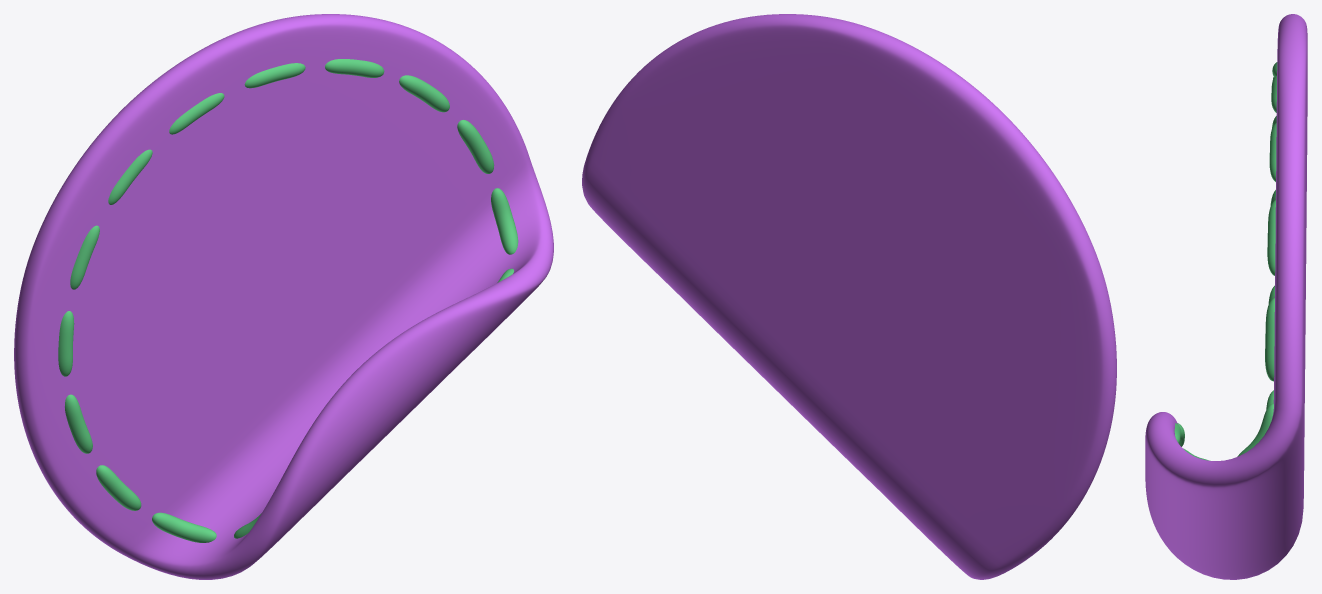
The model's file is 14. Sticker.glb.
3 views of the same model, side by side, from view 1: azimuth 30°, elevation 25°; view 2: azimuth 150°, elevation 25°; view 3: azimuth 270°, elevation 25° (orthographic). The views are drawn at different scales.
Visible parts, largest first — view 1: Sticker, Cylinder; view 2: Sticker; view 3: Sticker, Cylinder.
Boxes of the visible parts, box(x1,y1,x2,y2) form: Sticker: box(14, 14, 553, 579); Cylinder: box(58, 59, 518, 542); Sticker: box(582, 14, 1116, 579); Sticker: box(1145, 14, 1307, 579); Cylinder: box(1174, 62, 1277, 460).
Size of the model in its own units: 0.3708 by 0.3533 by 0.0885.
